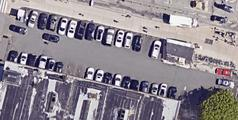parkingspot: (7, 47, 181, 101), (25, 7, 166, 60)
